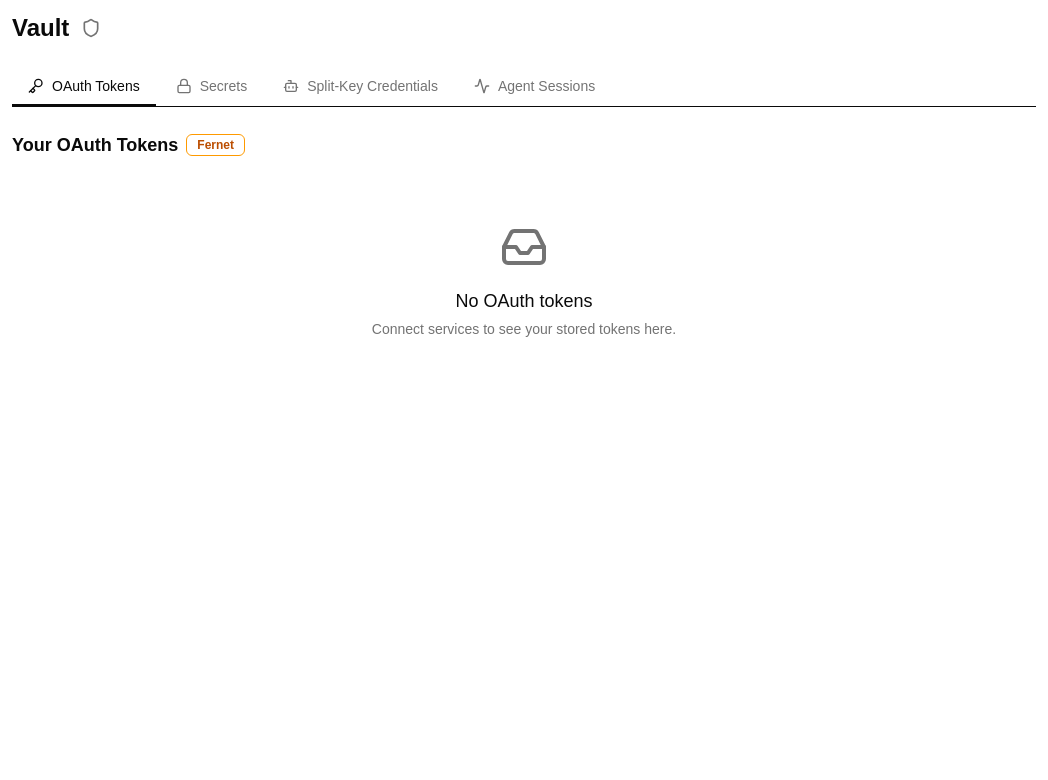
Test: Vault tabs — Phase 3 › Agent Sessions tab shows pagination text when total exceeds displayed
This screenshot has width=1048, height=780.
Click the button "Agent Sessions" at coordinates (535, 87), box [458,68,611,106]
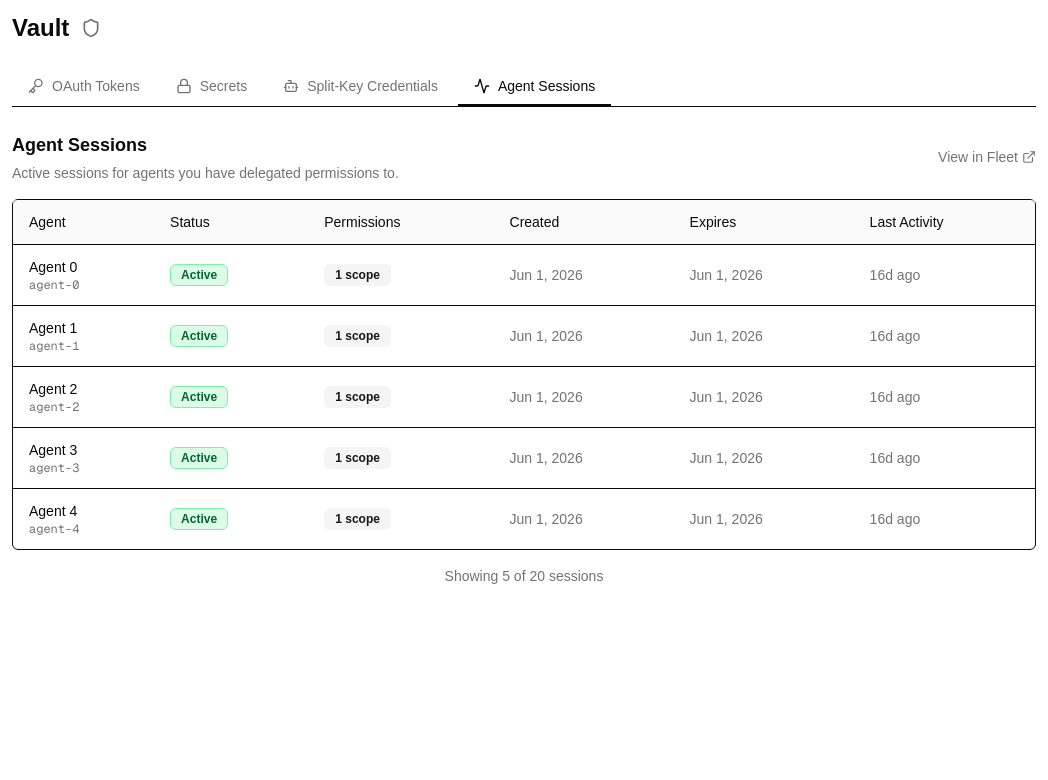
Expected: the text "Showing 5 of 20 sessions" is shown, [445,568,603,584]
